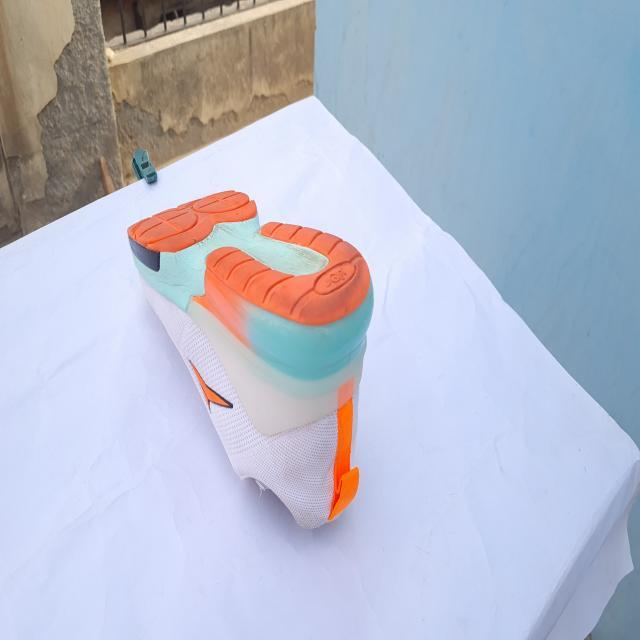shoe: (126, 189, 375, 532)
